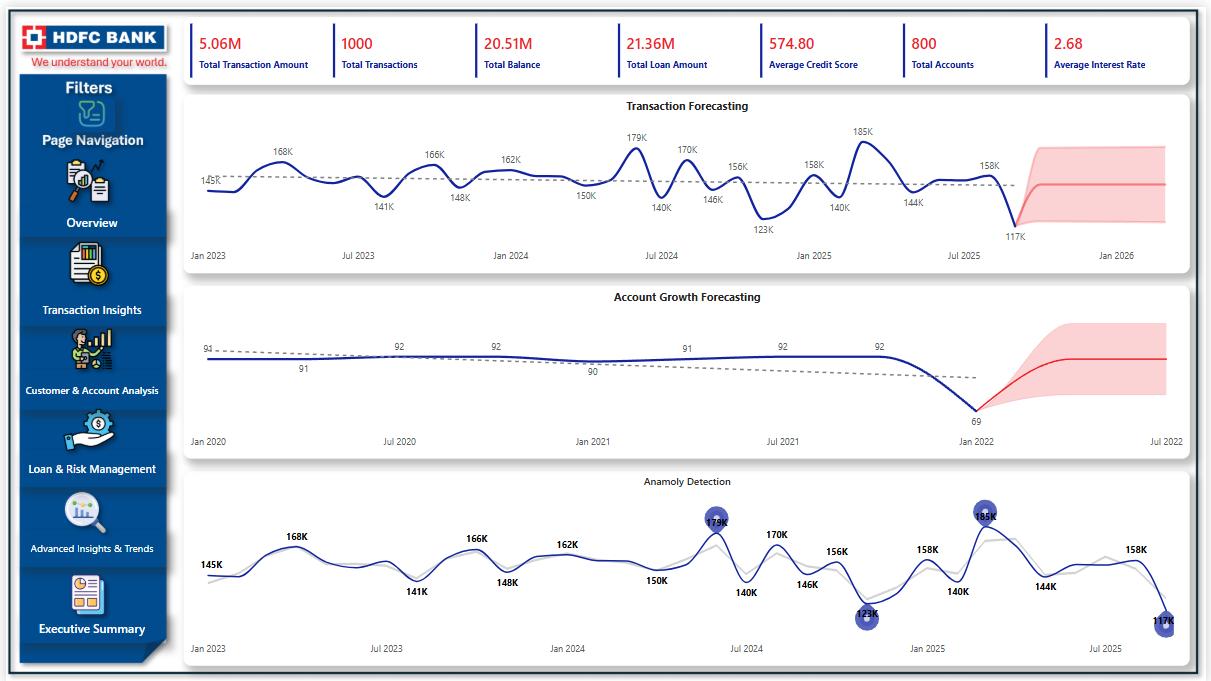

What the dashboard file says about the page in this screenshot:
{"tool":"powerbi","page":{"name":" Advanced Insights & Trends","canvas":[1600,900],"ordinal":5},"visuals":[{"type":"cardVisual","fields":{"Data":["All Measures.Total Transaction Amount","All Measures.Total Transactions","All Measures.Total Balance","All Measures.Total Loan Amount","All Measures.Average Credit Score","All Measures.Total Accounts","All Measures.Average Interest Rate"]},"box":[236.7,13.3,1341.7,90],"z":0},{"type":"lineChart","title":"Transaction Forecasting","fields":{"Category":["CalendarTable.Date.Variation.Date Hierarchy.Year","CalendarTable.Date.Variation.Date Hierarchy.Quarter","CalendarTable.Date.Variation.Date Hierarchy.Month","CalendarTable.Date.Variation.Date Hierarchy.Day"],"Y":["Sum(banking_transactions.Amount)"]},"box":[236.7,116.7,1341.7,238.3],"z":1000},{"type":"lineChart","title":"Anamoly Detection ","fields":{"Y":["Sum(banking_transactions.Amount)"],"Category":["CalendarTable.Date.Variation.Date Hierarchy.Year","CalendarTable.Date.Variation.Date Hierarchy.Quarter","CalendarTable.Date.Variation.Date Hierarchy.Month","CalendarTable.Date.Variation.Date Hierarchy.Day"]},"box":[236.7,618.3,1341.7,260],"z":2000},{"type":"lineChart","title":"Account Growth Forecasting","fields":{"Y":["All Measures2.Monthly Account Openings"],"Category":["AccountOpeningDateTable.Date.Variation.Date Hierarchy.Year","AccountOpeningDateTable.Date.Variation.Date Hierarchy.Quarter","AccountOpeningDateTable.Date.Variation.Date Hierarchy.Month","AccountOpeningDateTable.Date.Variation.Date Hierarchy.Day"]},"box":[236.7,371.7,1341.7,230],"z":3000},{"type":"pageNavigator","box":[16.7,268.3,196.7,38.3],"z":4000},{"type":"pageNavigator","box":[16.7,381.7,196.7,43.3],"z":5000},{"type":"pageNavigator","box":[16.7,483.3,196.7,53.3],"z":6000},{"type":"pageNavigator","box":[16.7,590,196.7,50],"z":7000},{"type":"pageNavigator","box":[16.7,696.7,196.7,50],"z":8000},{"type":"pageNavigator","box":[16.7,808.3,196.7,40],"z":9000},{"type":"image","box":[83.3,118.3,61.7,48.3],"z":10000}]}

Visuals, with their boxes in screenshot pixels (x1, y1, x2, y2), scaled from the page's 1600x900 canvas onto the 1211x681 screenshot:
cardVisual - All Measures.Total Transaction Amount x All Measures.Total Transactions: BBox(179, 10, 1195, 78)
"Transaction Forecasting" lineChart: BBox(179, 88, 1195, 269)
"Anamoly Detection " lineChart: BBox(179, 468, 1195, 665)
"Account Growth Forecasting" lineChart: BBox(179, 281, 1195, 455)
pageNavigator: BBox(13, 203, 162, 232)
pageNavigator: BBox(13, 289, 162, 322)
pageNavigator: BBox(13, 366, 162, 406)
pageNavigator: BBox(13, 446, 162, 484)
pageNavigator: BBox(13, 527, 162, 565)
pageNavigator: BBox(13, 612, 162, 642)
image: BBox(63, 90, 110, 126)
